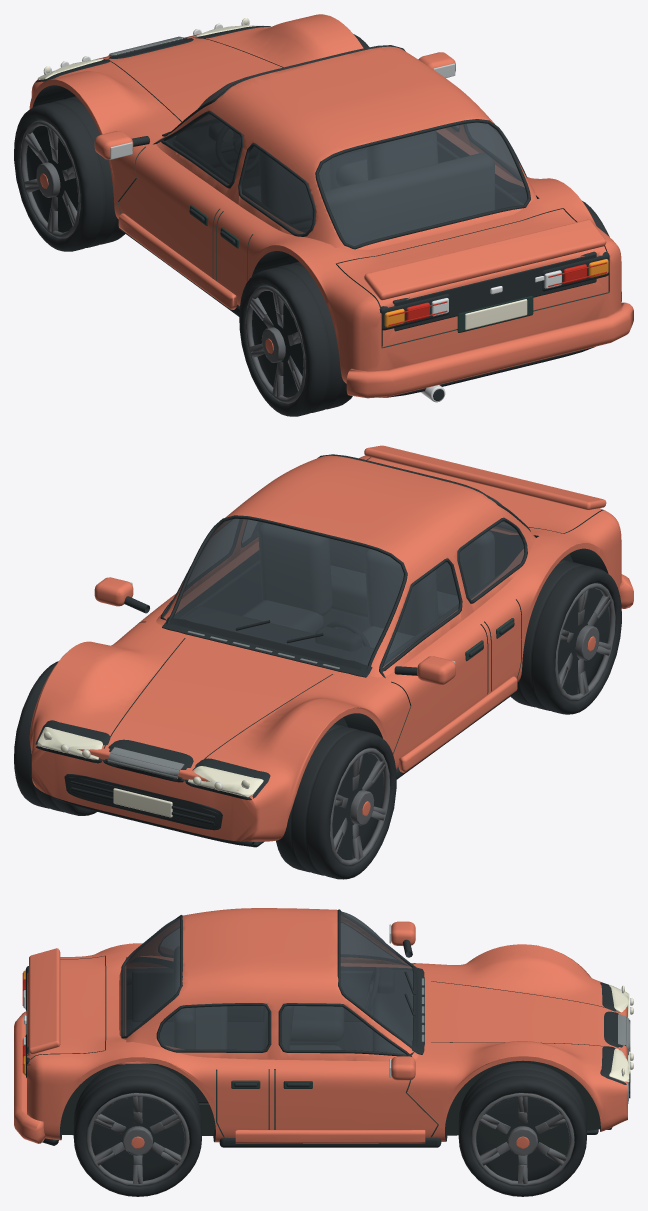
File: kage_lod1.fbx
3 views of the same model, one above another, from view 1: azimuth 30°, elevation 25°; view 2: azimuth 150°, elevation 25°; view 3: azimuth 270°, elevation 25° (orthographic). The views are drawn at different scales.
Parts seen in each view (by area): view 1: Body, Wheel_RL_Mesh, Wheel_FL_Mesh; view 2: Body, Wheel_FL_Mesh, Wheel_RL_Mesh, Wheel_FR_Mesh; view 3: Body, Wheel_FR_Mesh, Wheel_RR_Mesh, Wheel_RL_Mesh.
Boxes of the visible parts, x1=… form: Body: x1=29, y1=14, x2=633, y2=402; Wheel_RL_Mesh: x1=239, y1=262, x2=352, y2=416; Wheel_FL_Mesh: x1=14, y1=96, x2=125, y2=251; Body: x1=29, y1=445, x2=633, y2=847; Wheel_FL_Mesh: x1=276, y1=724, x2=396, y2=879; Wheel_RL_Mesh: x1=510, y1=559, x2=621, y2=714; Wheel_FR_Mesh: x1=14, y1=661, x2=96, y2=815; Body: x1=14, y1=908, x2=633, y2=1147; Wheel_FR_Mesh: x1=458, y1=1062, x2=586, y2=1196; Wheel_RR_Mesh: x1=73, y1=1064, x2=201, y2=1196; Wheel_RL_Mesh: x1=126, y1=968, x2=173, y2=1019.
Bounding box in the file's own units: 238 × 148 × 425.
